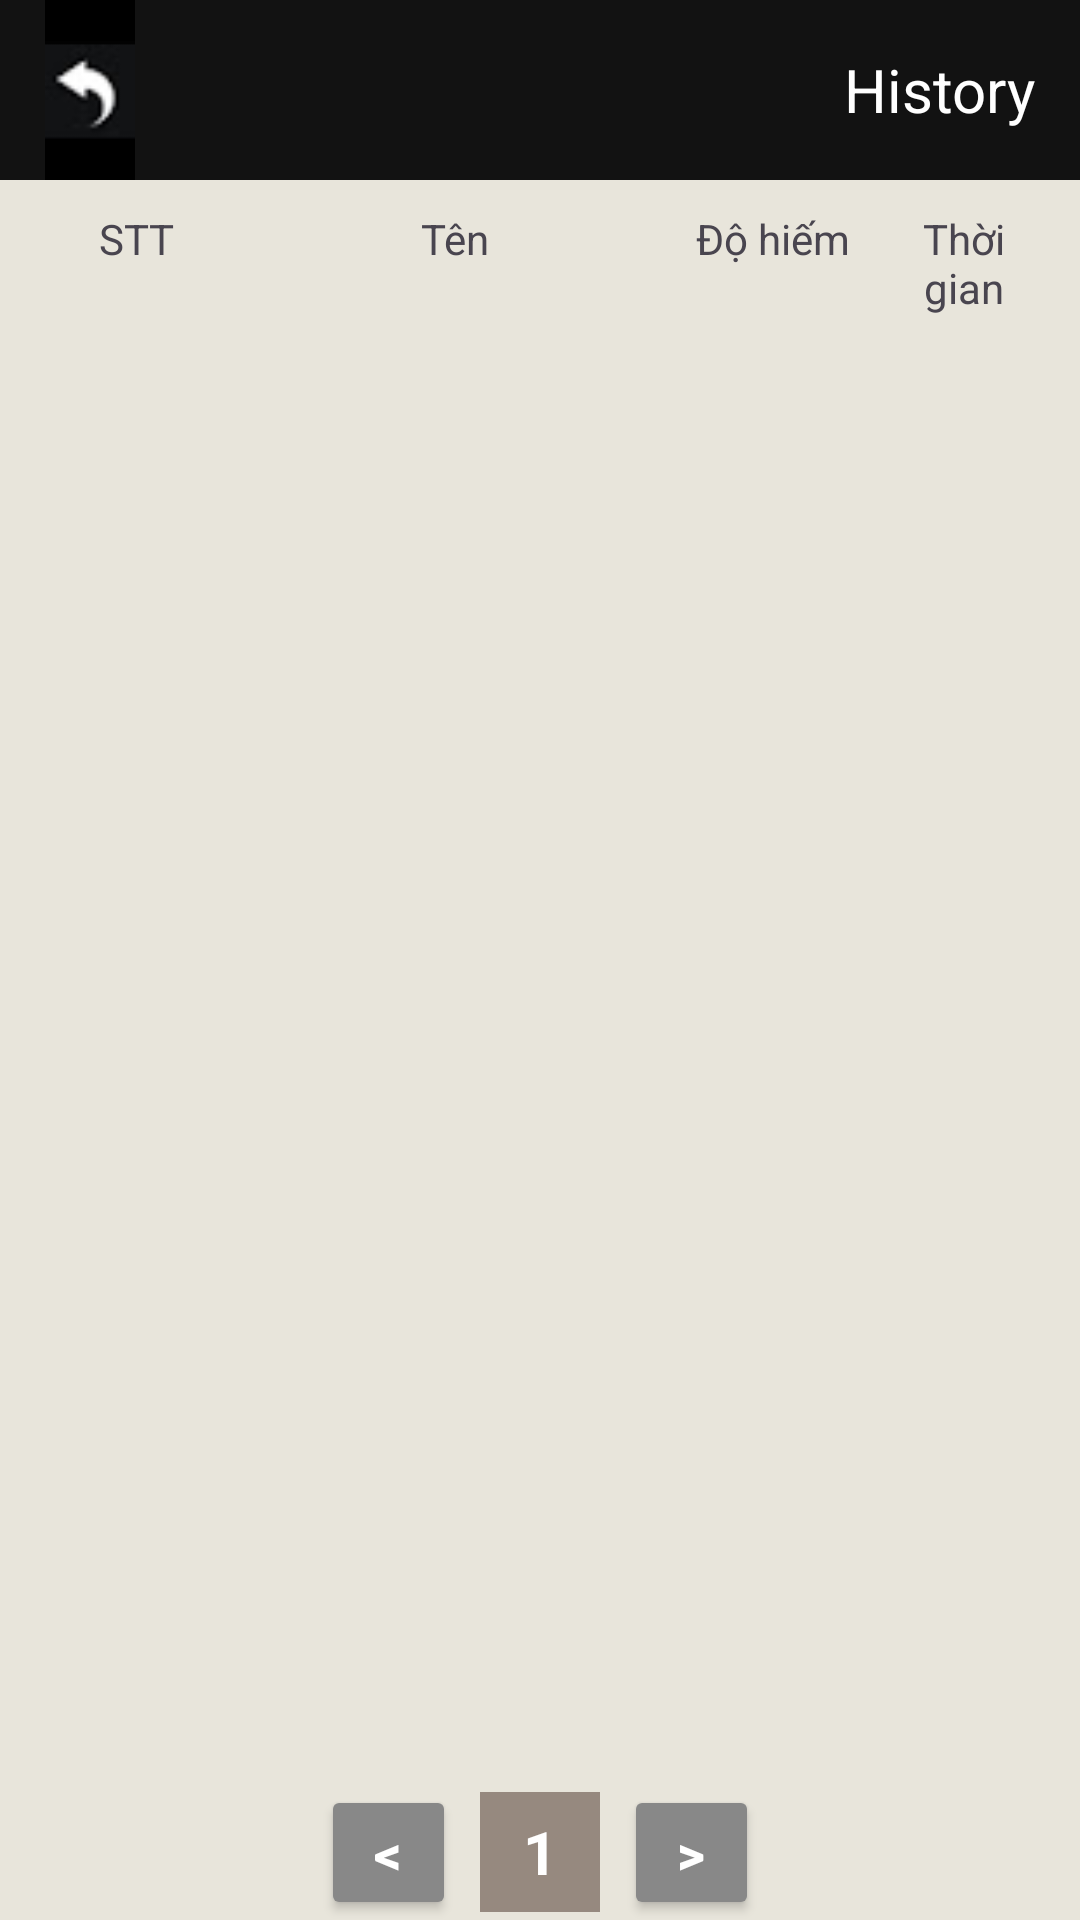

Screen size 1080w x 1920h. Icon name, then its box in pixels as (left=x1, top=y1, right=x2, bottom=y2):
back: (left=56, top=60, right=116, bottom=128)
